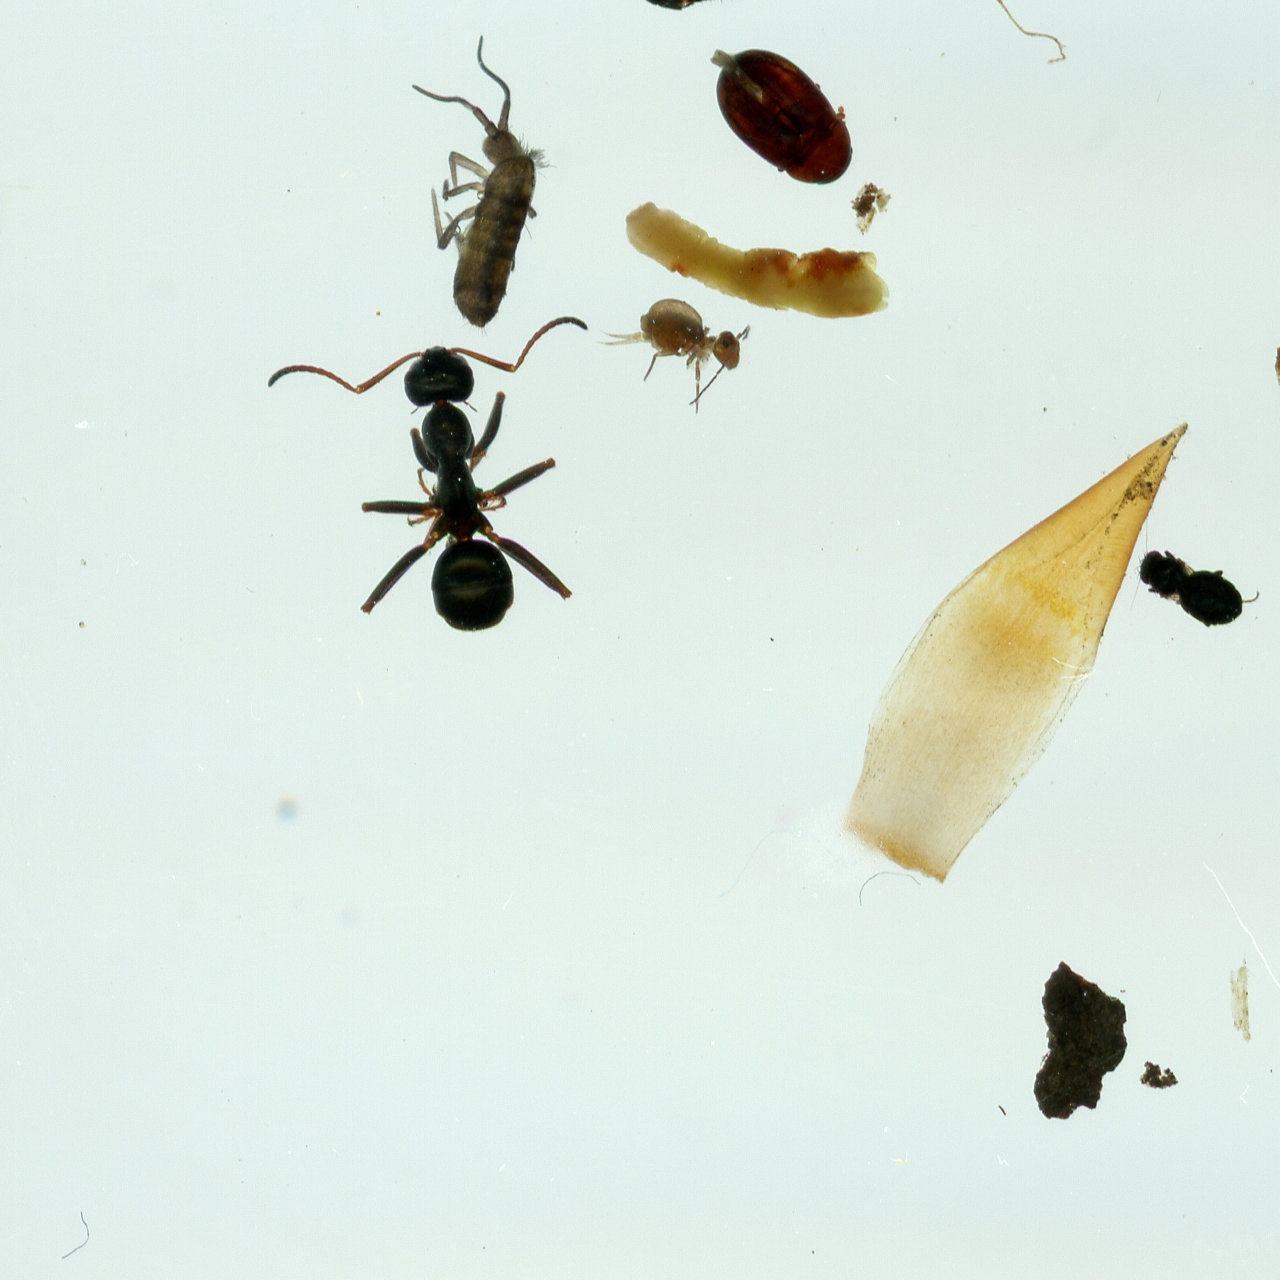arthropod: (267, 315, 591, 633), (410, 34, 552, 325), (706, 45, 857, 189), (598, 294, 751, 410), (1137, 537, 1262, 628), (627, 0, 751, 8)
